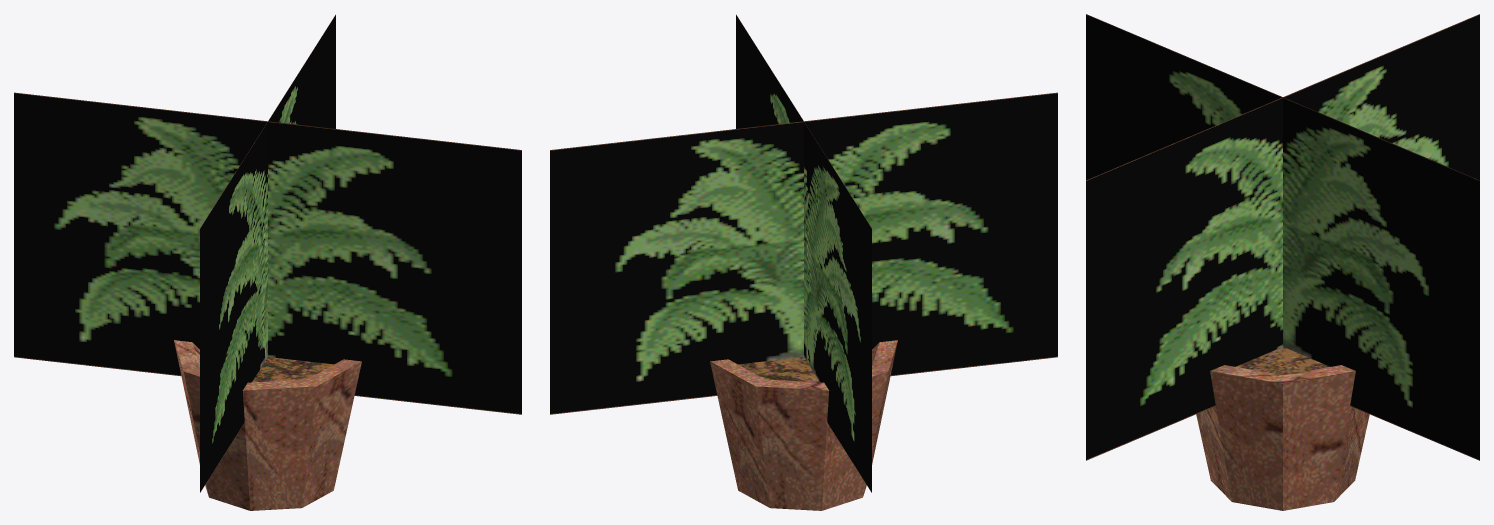
The model's file is plant.glb.
The picture shows the model from 3 angles, left to right: view 1: azimuth 30°, elevation 25°; view 2: azimuth 150°, elevation 25°; view 3: azimuth 270°, elevation 25°; orthographic projection. The views are drawn at different scales.
Parts seen in each view (by area): view 1: Plane.001; view 2: Plane.001; view 3: Plane.001.
Part boxes in pixels (x1,y1,x2,y2): Plane.001: (14, 14, 521, 510); Plane.001: (550, 14, 1057, 510); Plane.001: (1086, 14, 1479, 510).
Size of the model in its own units: 1.53 by 1.64 by 1.53.
1 material, 1 textured.
